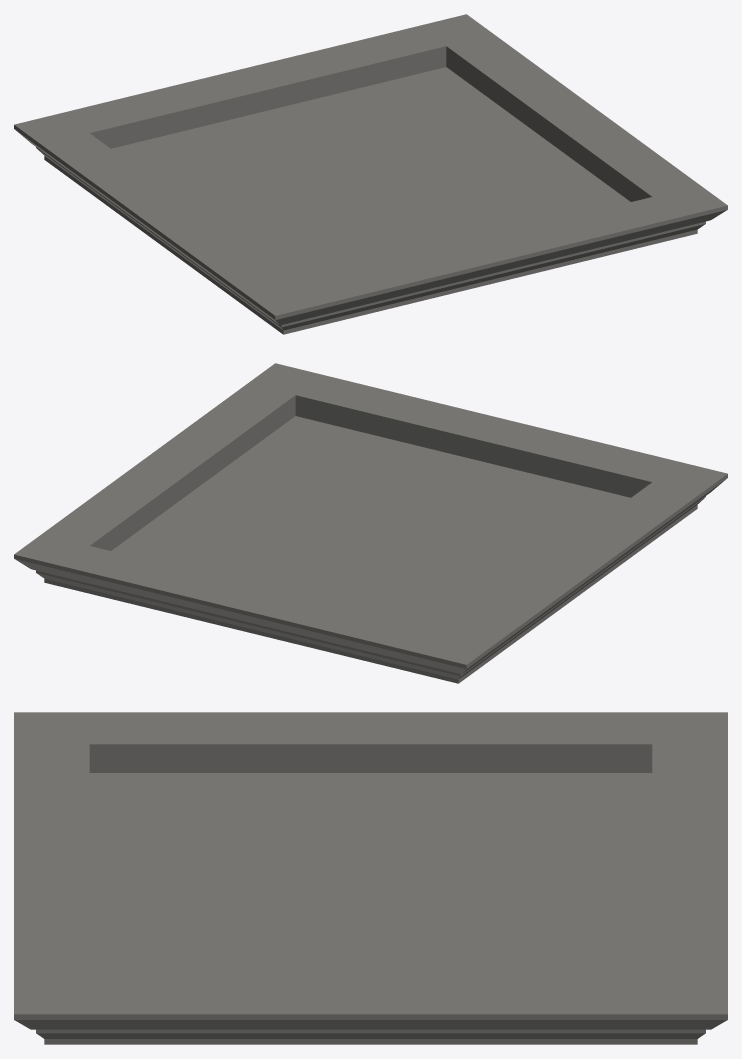
The model's file is SM_Bldg_City_High-Rise_04_05_Roof_02.fbx.
The picture shows the model from 3 angles, top to bottom: view 1: azimuth 30°, elevation 25°; view 2: azimuth 150°, elevation 25°; view 3: azimuth 270°, elevation 25°; orthographic projection. The views are drawn at different scales.
Parts seen in each view (by area): view 1: SM_Bldg_City_High-Rise_04&05_Roof_02; view 2: SM_Bldg_City_High-Rise_04&05_Roof_02; view 3: SM_Bldg_City_High-Rise_04&05_Roof_02.
Part boxes in pixels (x1,y1,x2,y2): SM_Bldg_City_High-Rise_04&05_Roof_02: (14,14,727,334); SM_Bldg_City_High-Rise_04&05_Roof_02: (14,363,727,683); SM_Bldg_City_High-Rise_04&05_Roof_02: (14,712,727,1044).
Size of the model in its own units: 1136 by 75.75 by 1136.
